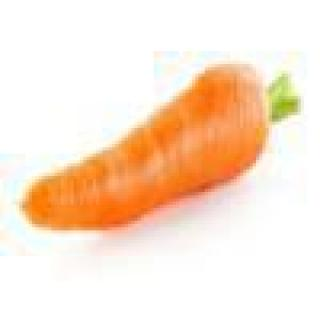Wortel: (1, 52, 302, 270)
